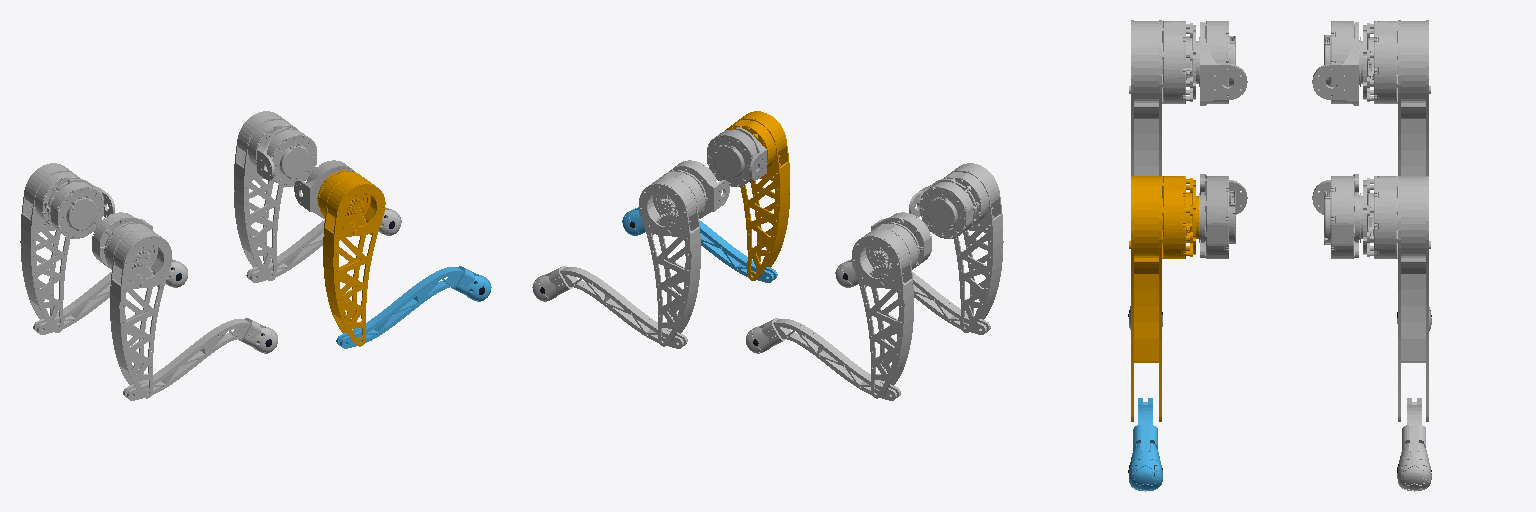
The robot description file, URDF, robot "black_description":
<?xml version="1.0" encoding="utf-8"?>
<robot name="black_description" xmlns:xacro="http://www.ros.org/wiki/xacro">
  <!-- 材料定义 -->
  <material name="black">
    <color rgba="0.0 0.0 0.0 1.0"/>
  </material>
  <material name="blue">
    <color rgba="0.0 0.0 0.8 1.0"/>
  </material>
  <material name="green">
    <color rgba="0.0 0.8 0.0 1.0"/>
  </material>
  <material name="grey">
    <color rgba="0.2 0.2 0.2 1.0"/>
  </material>
  <material name="silver">
    <color rgba="0.913725490196 0.913725490196 0.847058823529 1.0"/>
  </material>
  <material name="orange">
    <color rgba="0.12 0.15 0.2 1.0"/>
  </material>
  <material name="brown">
    <color rgba="0.870588235294 0.811764705882 0.764705882353 1.0"/>
  </material>
  <material name="red">
    <color rgba="0.8 0.0 0.0 1.0"/>
  </material>
  <material name="white">
    <color rgba="1.0 1.0 1.0 1.0"/>
  </material>

  <link name="base">
    <visual>
      <origin rpy="0 0 0" xyz="0 0 0"/>
      <geometry>
        <box size="0.001 0.001 0.001"/>
      </geometry>
    </visual>
  </link>

  <joint name="floating_base" type="fixed">
    <origin rpy="0 0 0" xyz="0 0 0"/>
    <parent link="base"/>
    <child link="trunk"/>
  </joint>

<link name="trunk">
  <inertial>
    <origin xyz="-0.013095 -4.9963E-05 -0.074252" rpy="0 0 0" />
    <mass value="5.7042" />
    <inertia ixx="0.0092853" ixy="-2.5997E-06" ixz="1.7135E-06" iyy="0.0076386" iyz="-2.7563E-05" izz="0.012703" />
  </inertial>
  <visual>
    <origin xyz="0 0 0" rpy="0 0 0" />
    <geometry>
      <mesh filename="../meshes/trunk.STL" />
    </geometry>
    <material name="">
      <color rgba="0.75294 0.75294 0.75294 1" />
    </material>
  </visual>
  <collision>
    <origin xyz="0 0 0" rpy="0 0 0" />
    <geometry>
      <mesh filename="../meshes/trunk.STL" />
    </geometry>
  </collision>
</link>
<joint name="imu_joint" type="fixed">
  <parent link="trunk"/>
  <child link="imu_link"/>
  <origin rpy="0 0 0" xyz="0 0 0"/>
</joint>
<link name="imu_link">
  <inertial>
    <mass value="0.001"/>
    <origin rpy="0 0 0" xyz="0 0 0"/>
    <inertia ixx="0.0001" ixy="0" ixz="0" iyy="0.0001" iyz="0" izz="0.0001"/>
  </inertial>
  <visual>
    <origin rpy="0 0 0" xyz="0 0 0"/>
    <geometry>
      <box size="0.001 0.001 0.001"/>
    </geometry>
    <material name="red"/>
  </visual>
</link>

<!-- ===================== 左前腿（FL）===================== -->
<joint name="FL_hip_joint" type="revolute">
  <origin xyz="0.1566 0.060001 -0.06425" rpy="0 0 0"/>
  <parent link="trunk"/>
  <child link="FL_hip"/>
  <axis xyz="1 0 0"/>
  <limit lower="-0.5" upper="0.5" effort="20" velocity="25"/>
</joint>
<link name="FL_hip">
  <inertial>
    <origin xyz="0.05138 0.014784 5.6642E-05" rpy="0 0 0"/>
    <mass value="0.60559"/>
    <inertia ixx="0.00037423" ixy="-8.7952E-06" ixz="1.0024E-06" iyy="0.00064932" iyz="-6.9802E-08" izz="0.00034154"/>
  </inertial>
  <visual>
    <origin xyz="0 0 0" rpy="0 0 0"/>
    <geometry>
      <mesh filename="../meshes/FL_hip.STL"/>
    </geometry>
    <material name="">
      <color rgba="0.75294 0.75294 0.75294 1"/>
    </material>
  </visual>
  <collision>
    <origin xyz="0 0 0" rpy="0 0 0"/>
    <geometry>
      <mesh filename="../meshes/FL_hip.STL"/>
    </geometry>
  </collision>
</link>
<joint name="FL_thigh_joint" type="revolute">
  <origin xyz="0.056 0.0336 0" rpy="0 0 1.5708"/>
  <parent link="FL_hip"/>
  <child link="FL_thigh"/>
  <axis xyz="1 0 0"/>
  <limit lower="-1.2" upper="1.6" effort="20" velocity="25"/>
</joint>
<link name="FL_thigh">
  <inertial>
    <origin xyz="0.041449 0.004453 -0.021946" rpy="0 0 0"/>
    <mass value="0.91168"/>
    <inertia ixx="0.0018577" ixy="-4.9269E-08" ixz="-1.9083E-07" iyy="0.0013983" iyz="5.1316E-06" izz="0.00051793"/>
  </inertial>
  <visual>
    <origin xyz="0 0 0" rpy="0 0 0"/>
    <geometry>
      <mesh filename="../meshes/FL_thigh.STL"/>
    </geometry>
    <material name="">
      <color rgba="0.75294 0.75294 0.75294 1"/>
    </material>
  </visual>
  <collision>
    <origin xyz="0 0 0" rpy="0 0 0"/>
    <geometry>
      <mesh filename="../meshes/FL_thigh.STL"/>
    </geometry>
  </collision>
</link>
<joint name="FL_calf_joint" type="revolute">
  <origin xyz="0.0618 0 -0.25" rpy="0 0 0"/>
  <parent link="FL_thigh"/>
  <child link="FL_calf"/>
  <axis xyz="1 0 0"/>
  <limit lower="-2.5" upper="-0.85" effort="20" velocity="25"/>
</joint>
<link name="FL_calf">
  <inertial>
    <origin xyz="7.7228E-05 -0.024754 -0.14833" rpy="0 0 0"/>
    <mass value="0.24861"/>
    <inertia ixx="0.00092905" ixy="2.6425E-08" ixz="-2.925E-08" iyy="0.00085606" iyz="-0.00021684" izz="8.8931E-05"/>
  </inertial>
  <visual>
    <origin xyz="0 0 0" rpy="0 0 0"/>
    <geometry>
      <mesh filename="../meshes/FL_calf.STL"/>
    </geometry>
    <material name="">
      <color rgba="0.75294 0.75294 0.75294 1"/>
    </material>
  </visual>
  <collision>
    <origin xyz="0 0 0" rpy="0 0 0"/>
    <geometry>
      <mesh filename="../meshes/FL_calf.STL"/>
    </geometry>
  </collision>
</link>

<joint name="FL_foot_fixed" type="fixed" dont_collapse="true">
  <origin xyz="0 -0.013803 -0.24433" rpy="0 0 0"/>
  <parent link="FL_calf"/>
  <child link="FL_foot"/>
</joint>
<link name="FL_foot">
  <visual>
    <origin xyz="0 0 0" rpy="0 0 0"/>
    <geometry>
      <sphere radius="0.02"/>
    </geometry>
    <material name="orange"/>
  </visual>
  <collision>
    <origin xyz="0 0 0" rpy="0 0 0"/>
    <geometry>
      <sphere radius="0.03"/>
    </geometry>
  </collision>
  <inertial>
    <mass value="0.1"/>
    <inertia ixx="1.6e-05" ixy="0" ixz="0" iyy="1.6e-05" iyz="0" izz="1.6e-05"/>
  </inertial>
</link>



<!-- ===================== 右前腿（FR）===================== -->
<joint name="FR_hip_joint" type="revolute">
  <origin xyz="0.1566 -0.059999 -0.06425" rpy="0 0 0"/>
  <parent link="trunk"/>
  <child link="FR_hip"/>
  <axis xyz="1 0 0"/>
  <limit lower="-0.5" upper="0.5" effort="20" velocity="25"/>
</joint>
<link name="FR_hip">
  <inertial>
    <origin xyz="0.05138 -0.014784 -5.6642E-05" rpy="0 0 0"/>
    <mass value="0.60559"/>
    <inertia ixx="0.00037423" ixy="8.7952E-06" ixz="-1.0024E-06" iyy="0.00064932" iyz="-6.9802E-08" izz="0.00034154"/>
  </inertial>
  <visual>
    <origin xyz="0 0 0" rpy="0 0 0"/>
    <geometry>
      <mesh filename="../meshes/FR_hip.STL"/>
    </geometry>
    <material name=""/>
  </visual>
  <collision>
    <origin xyz="0 0 0" rpy="0 0 0"/>
    <geometry>
      <mesh filename="../meshes/FR_hip.STL"/>
    </geometry>
  </collision>
</link>
<joint name="FR_thigh_joint" type="revolute">
  <origin xyz="0.056 -0.0336 0" rpy="0 0 -1.5708"/>
  <parent link="FR_hip"/>
  <child link="FR_thigh"/>
  <axis xyz="1 0 0"/>
  <limit lower="-1.6" upper="1.2" effort="20" velocity="25"/>
</joint>
<link name="FR_thigh">
  <inertial>
    <origin xyz="0.04152 -0.0043781 -0.022024" rpy="0 0 0"/>
    <mass value="0.91491"/>
    <inertia ixx="0.0018577" ixy="-8.869E-08" ixz="-1.6926E-07" iyy="0.0013991" iyz="-3.059E-06" izz="0.00051716"/>
  </inertial>
  <visual>
    <origin xyz="0 0 0" rpy="0 0 0"/>
    <geometry>
      <mesh filename="../meshes/FR_thigh.STL"/>
    </geometry>
    <material name=""/>
  </visual>
  <collision>
    <origin xyz="0 0 0" rpy="0 0 0"/>
    <geometry>
      <mesh filename="../meshes/FR_thigh.STL"/>
    </geometry>
  </collision>
</link>

<joint name="FR_calf_joint" type="revolute">
  <origin xyz="0.0618 0 -0.25" rpy="0 0 0"/>
  <parent link="FR_thigh"/>
  <child link="FR_calf"/>
  <axis xyz="1 0 0"/>
  <limit lower="0.85" upper="2.5" effort="20" velocity="25"/>
</joint>
<link name="FR_calf">
  <inertial>
    <origin xyz="-7.7228E-05 0.024754 -0.14833" rpy="0 0 0"/>
    <mass value="0.24861"/>
    <inertia ixx="0.00092905" ixy="2.6424E-08" ixz="2.925E-08" iyy="0.00085606" iyz="0.00021684" izz="8.8931E-05"/>
  </inertial>
  <visual>
    <origin xyz="0 0 0" rpy="0 0 0"/>
    <geometry>
      <mesh filename="../meshes/FR_calf.STL"/>
    </geometry>
    <material name=""/>
  </visual>
  <collision>
    <origin xyz="0 0 0" rpy="0 0 0"/>
    <geometry>
      <mesh filename="../meshes/FR_calf.STL"/>
    </geometry>
  </collision>
</link>

<joint name="FR_foot_fixed" type="fixed" dont_collapse="true">
  <origin xyz="0 0.013803 -0.24433" rpy="0 0 0"/>
  <parent link="FR_calf"/>
  <child link="FR_foot"/>
</joint>
<link name="FR_foot">
  <visual>
    <origin xyz="0 0 0" rpy="0 0 0"/>
    <geometry>
      <sphere radius="0.02"/>
    </geometry>
    <material name="orange"/>
  </visual>
  <collision>
    <origin xyz="0 0 0" rpy="0 0 0"/>
    <geometry>
      <sphere radius="0.03"/>
    </geometry>
  </collision>
  <inertial>
    <mass value="0.1"/>
    <inertia ixx="1.6e-05" ixy="0" ixz="0" iyy="1.6e-05" iyz="0" izz="1.6e-05"/>
  </inertial>
</link>

<!-- ===================== 右后腿（RR）===================== -->
<joint name="RR_hip_joint" type="revolute">
  <origin xyz="-0.1566 -0.059999 -0.06425" rpy="0 0 -3.1416"/>
  <parent link="trunk"/>
  <child link="RR_hip"/>
  <axis xyz="1 0 0"/>
  <limit lower="-0.5" upper="0.5" effort="20" velocity="25"/>
</joint>
<link name="RR_hip">
  <inertial>
    <origin xyz="0.05138 0.014784 5.6642E-05" rpy="0 0 0"/>
    <mass value="0.60559"/>
    <inertia ixx="0.00037423" ixy="-8.7952E-06" ixz="1.0024E-06" iyy="0.00064932" iyz="-6.9802E-08" izz="0.00034154"/>
  </inertial>
  <visual>
    <origin xyz="0 0 0" rpy="0 0 0"/>
    <geometry>
      <mesh filename="../meshes/RR_hip.STL"/>
    </geometry>
    <material name="">
      <color rgba="0.75294 0.75294 0.75294 1"/>
    </material>
  </visual>
  <collision>
    <origin xyz="0 0 0" rpy="0 0 0"/>
    <geometry>
      <mesh filename="../meshes/RR_hip.STL"/>
    </geometry>
  </collision>
</link>

<joint name="RR_thigh_joint" type="revolute">
  <origin xyz="0.056 0.0336 0" rpy="0 0 1.5708"/>
  <parent link="RR_hip"/>
  <child link="RR_thigh"/>
  <axis xyz="1 0 0"/>
  <limit lower="-1.6" upper="1.2" effort="20" velocity="25"/>
</joint>
<link name="RR_thigh">
  <inertial>
    <origin xyz="0.04152 -0.0043784 -0.022024" rpy="0 0 0"/>
    <mass value="0.91491"/>
    <inertia ixx="0.0018577" ixy="-8.869E-08" ixz="-1.6926E-07" iyy="0.0013991" iyz="-3.059E-06" izz="0.00051716"/>
  </inertial>
  <visual>
    <origin xyz="0 0 0" rpy="0 0 0"/>
    <geometry>
      <mesh filename="../meshes/RR_thigh.STL"/>
    </geometry>
    <material name="">
      <color rgba="0.75294 0.75294 0.75294 1"/>
    </material>
  </visual>
  <collision>
    <origin xyz="0 0 0" rpy="0 0 0"/>
    <geometry>
      <mesh filename="../meshes/RR_thigh.STL"/>
    </geometry>
  </collision>
</link>

<joint name="RR_calf_joint" type="revolute">
  <origin xyz="0.0618 0 -0.25" rpy="0 0 0"/>
  <parent link="RR_thigh"/>
  <child link="RR_calf"/>
  <axis xyz="1 0 0"/>
  <limit lower="0.85" upper="2.5" effort="20" velocity="25"/>
</joint>
<link name="RR_calf">
  <inertial>
    <origin xyz="-7.7228E-05 0.024754 -0.14833" rpy="0 0 0"/>
    <mass value="0.24861"/>
    <inertia ixx="0.00092905" ixy="2.6424E-08" ixz="2.925E-08" iyy="0.00085606" iyz="0.00021684" izz="8.8931E-05"/>
  </inertial>
  <visual>
    <origin xyz="0 0 0" rpy="0 0 0"/>
    <geometry>
      <mesh filename="../meshes/RR_calf.STL"/>
    </geometry>
    <material name="">
      <color rgba="0.75294 0.75294 0.75294 1"/>
    </material>
  </visual>
  <collision>
    <origin xyz="0 0 0" rpy="0 0 0"/>
    <geometry>
      <mesh filename="../meshes/RR_calf.STL"/>
    </geometry>
  </collision>
</link>

<joint name="RR_foot_fixed" type="fixed" dont_collapse="true">
  <origin xyz="0 0.013803 -0.24433" rpy="0 0 0"/>
  <parent link="RR_calf"/>
  <child link="RR_foot"/>
</joint>
<link name="RR_foot">
  <visual>
    <origin xyz="0 0 0" rpy="0 0 0"/>
    <geometry>
      <sphere radius="0.02"/>
    </geometry>
    <material name="orange"/>
  </visual>
  <collision>
    <origin xyz="0 0 0" rpy="0 0 0"/>
    <geometry>
      <sphere radius="0.03"/>
    </geometry>
  </collision>
  <inertial>
    <mass value="0.1"/>
    <inertia ixx="1.6e-05" ixy="0" ixz="0" iyy="1.6e-05" iyz="0" izz="1.6e-05"/>
  </inertial>
</link>

<!-- ===================== 左后腿（RL）===================== -->
<joint name="RL_hip_joint" type="revolute">
  <origin xyz="-0.1566 0.060001 -0.06425" rpy="0 0 -3.1416"/>
  <parent link="trunk"/>
  <child link="RL_hip"/>
  <axis xyz="1 0 0"/>
  <limit lower="-0.5" upper="0.5" effort="20" velocity="25"/>
</joint>
<link name="RL_hip">
  <inertial>
    <origin xyz="0.05138 -0.014784 -5.6642E-05" rpy="0 0 0"/>
    <mass value="0.60559"/>
    <inertia ixx="0.00037423" ixy="8.7952E-06" ixz="-1.0024E-06" iyy="0.00064932" iyz="-6.9802E-08" izz="0.00034154"/>
  </inertial>
  <visual>
    <origin xyz="0 0 0" rpy="0 0 0"/>
    <geometry>
      <mesh filename="../meshes/RL_hip.STL"/>
    </geometry>
    <material name="">
      <color rgba="0.75294 0.75294 0.75294 1"/>
    </material>
  </visual>
  <collision>
    <origin xyz="0 0 0" rpy="0 0 0"/>
    <geometry>
      <mesh filename="../meshes/RL_hip.STL"/>
    </geometry>
  </collision>
</link>

<joint name="RL_thigh_joint" type="revolute">
  <origin xyz="0.056 -0.0336 0" rpy="0 0 -1.5708"/>
  <parent link="RL_hip"/>
  <child link="RL_thigh"/>
  <axis xyz="1 0 0"/>
  <limit lower="-1.2" upper="1.6" effort="20" velocity="25"/>
</joint>
<link name="RL_thigh">
  <inertial>
    <origin xyz="0.041449 0.0044527 -0.021947" rpy="0 0 0"/>
    <mass value="0.91168"/>
    <inertia ixx="0.0018577" ixy="-4.9269E-08" ixz="-1.9083E-07" iyy="0.0013983" iyz="5.1316E-06" izz="0.00051793"/>
  </inertial>
  <visual>
    <origin xyz="0 0 0" rpy="0 0 0"/>
    <geometry>
      <mesh filename="../meshes/RL_thigh.STL"/>
    </geometry>
    <material name="">
      <color rgba="0.75294 0.75294 0.75294 1"/>
    </material>
  </visual>
  <collision>
    <origin xyz="0 0 0" rpy="0 0 0"/>
    <geometry>
      <mesh filename="../meshes/RL_thigh.STL"/>
    </geometry>
  </collision>
</link>

<joint name="RL_calf_joint" type="revolute">
  <origin xyz="0.0618 0 -0.25" rpy="0 0 0"/>
  <parent link="RL_thigh"/>
  <child link="RL_calf"/>
  <axis xyz="1 0 0"/>
  <limit lower="-2.5" upper="-0.85" effort="20" velocity="25"/>
</joint>
<link name="RL_calf">
  <inertial>
    <origin xyz="7.7228E-05 -0.024754 -0.14833" rpy="0 0 0"/>
    <mass value="0.24861"/>
    <inertia ixx="0.00092905" ixy="2.6425E-08" ixz="-2.925E-08" iyy="0.00085606" iyz="-0.00021684" izz="8.8931E-05"/>
  </inertial>
  <visual>
    <origin xyz="0 0 0" rpy="0 0 0"/>
    <geometry>
      <mesh filename="../meshes/RL_calf.STL"/>
    </geometry>
    <material name="">
      <color rgba="0.75294 0.75294 0.75294 1"/>
    </material>
  </visual>
  <collision>
    <origin xyz="0 0 0" rpy="0 0 0"/>
    <geometry>
      <mesh filename="../meshes/RL_calf.STL"/>
    </geometry>
  </collision>
</link>

<joint name="RL_foot_fixed" type="fixed" dont_collapse="true">
  <origin xyz="0 -0.013803 -0.24433" rpy="0 0 0"/>
  <parent link="RL_calf"/>
  <child link="RL_foot"/>
</joint>
<link name="RL_foot">
  <visual>
    <origin xyz="0 0 0" rpy="0 0 0"/>
    <geometry>
      <sphere radius="0.02"/>
    </geometry>
    <material name="orange"/>
  </visual>
  <collision>
    <origin xyz="0 0 0" rpy="0 0 0"/>
    <geometry>
      <sphere radius="0.03"/>
    </geometry>
  </collision>
  <inertial>
    <mass value="0.1"/>
    <inertia ixx="1.6e-05" ixy="0" ixz="0" iyy="1.6e-05" iyz="0" izz="1.6e-05"/>
  </inertial>
</link>

</robot>

--- Render facts (derived) ---
Views: 3 orthographic renders of the robot side by side, from view 1: azimuth 30°, elevation 25°; view 2: azimuth 150°, elevation 25°; view 3: azimuth 270°, elevation 25°.
Model black_description with 19 links and 18 joints (12 revolute, 6 fixed), rooted at base, posed joints at zero except 4 at the middle of their limits (FL_calf_joint = -1.68, FR_calf_joint = 1.68, RR_calf_joint = 1.68, RL_calf_joint = -1.68).
Visible links, largest first — view 1: RR_thigh, FR_thigh, RL_thigh, FL_thigh, FR_calf, RR_calf, RL_hip, FL_hip, RL_calf, FL_calf, FR_hip, RR_hip; view 2: FL_thigh, RL_thigh, RR_thigh, FR_thigh, FL_calf, RL_calf, RR_hip, FR_hip, RR_calf, FR_calf, FL_hip, RL_hip; view 3: FL_thigh, FR_thigh, RL_thigh, RR_thigh, RR_hip, FR_hip, RL_hip, FL_hip, FR_calf, FL_calf.
Boxes of the visible links, x1=… form: RR_thigh: x1=104, y1=222, x2=171, y2=398; FR_thigh: x1=317, y1=170, x2=385, y2=346; RL_thigh: x1=20, y1=163, x2=80, y2=332; FL_thigh: x1=234, y1=111, x2=298, y2=280; FR_calf: x1=336, y1=266, x2=491, y2=348; RR_calf: x1=123, y1=318, x2=277, y2=400; RL_hip: x1=50, y1=179, x2=114, y2=238; FL_hip: x1=257, y1=127, x2=316, y2=186; RL_calf: x1=33, y1=259, x2=187, y2=334; FL_calf: x1=246, y1=207, x2=401, y2=282; FR_hip: x1=294, y1=160, x2=354, y2=218; RR_hip: x1=92, y1=212, x2=152, y2=267; FL_thigh: x1=639, y1=170, x2=706, y2=346; RL_thigh: x1=852, y1=222, x2=919, y2=398; RR_thigh: x1=943, y1=163, x2=1003, y2=332; FR_thigh: x1=725, y1=111, x2=789, y2=280; FL_calf: x1=532, y1=266, x2=687, y2=348; RL_calf: x1=746, y1=318, x2=900, y2=400; RR_hip: x1=909, y1=179, x2=973, y2=238; FR_hip: x1=707, y1=127, x2=766, y2=186; RR_calf: x1=835, y1=259, x2=990, y2=334; FR_calf: x1=622, y1=207, x2=777, y2=282; FL_hip: x1=669, y1=160, x2=729, y2=218; RL_hip: x1=871, y1=212, x2=931, y2=267; FL_thigh: x1=1361, y1=176, x2=1430, y2=421; FR_thigh: x1=1129, y1=176, x2=1198, y2=421; RL_thigh: x1=1361, y1=20, x2=1430, y2=175; RR_thigh: x1=1129, y1=20, x2=1198, y2=175; RR_hip: x1=1199, y1=21, x2=1247, y2=105; FR_hip: x1=1199, y1=174, x2=1247, y2=258; RL_hip: x1=1312, y1=21, x2=1360, y2=105; FL_hip: x1=1312, y1=174, x2=1360, y2=258; FR_calf: x1=1129, y1=398, x2=1162, y2=491; FL_calf: x1=1397, y1=398, x2=1431, y2=491.
Size in the robot's own frame: 0.7461 by 0.3509 by 0.3267 metres.
12 mesh visuals loaded from 13 distinct referenced files (12 binary STL); not drawn: 1 (reference not matched to a file when rendering).
